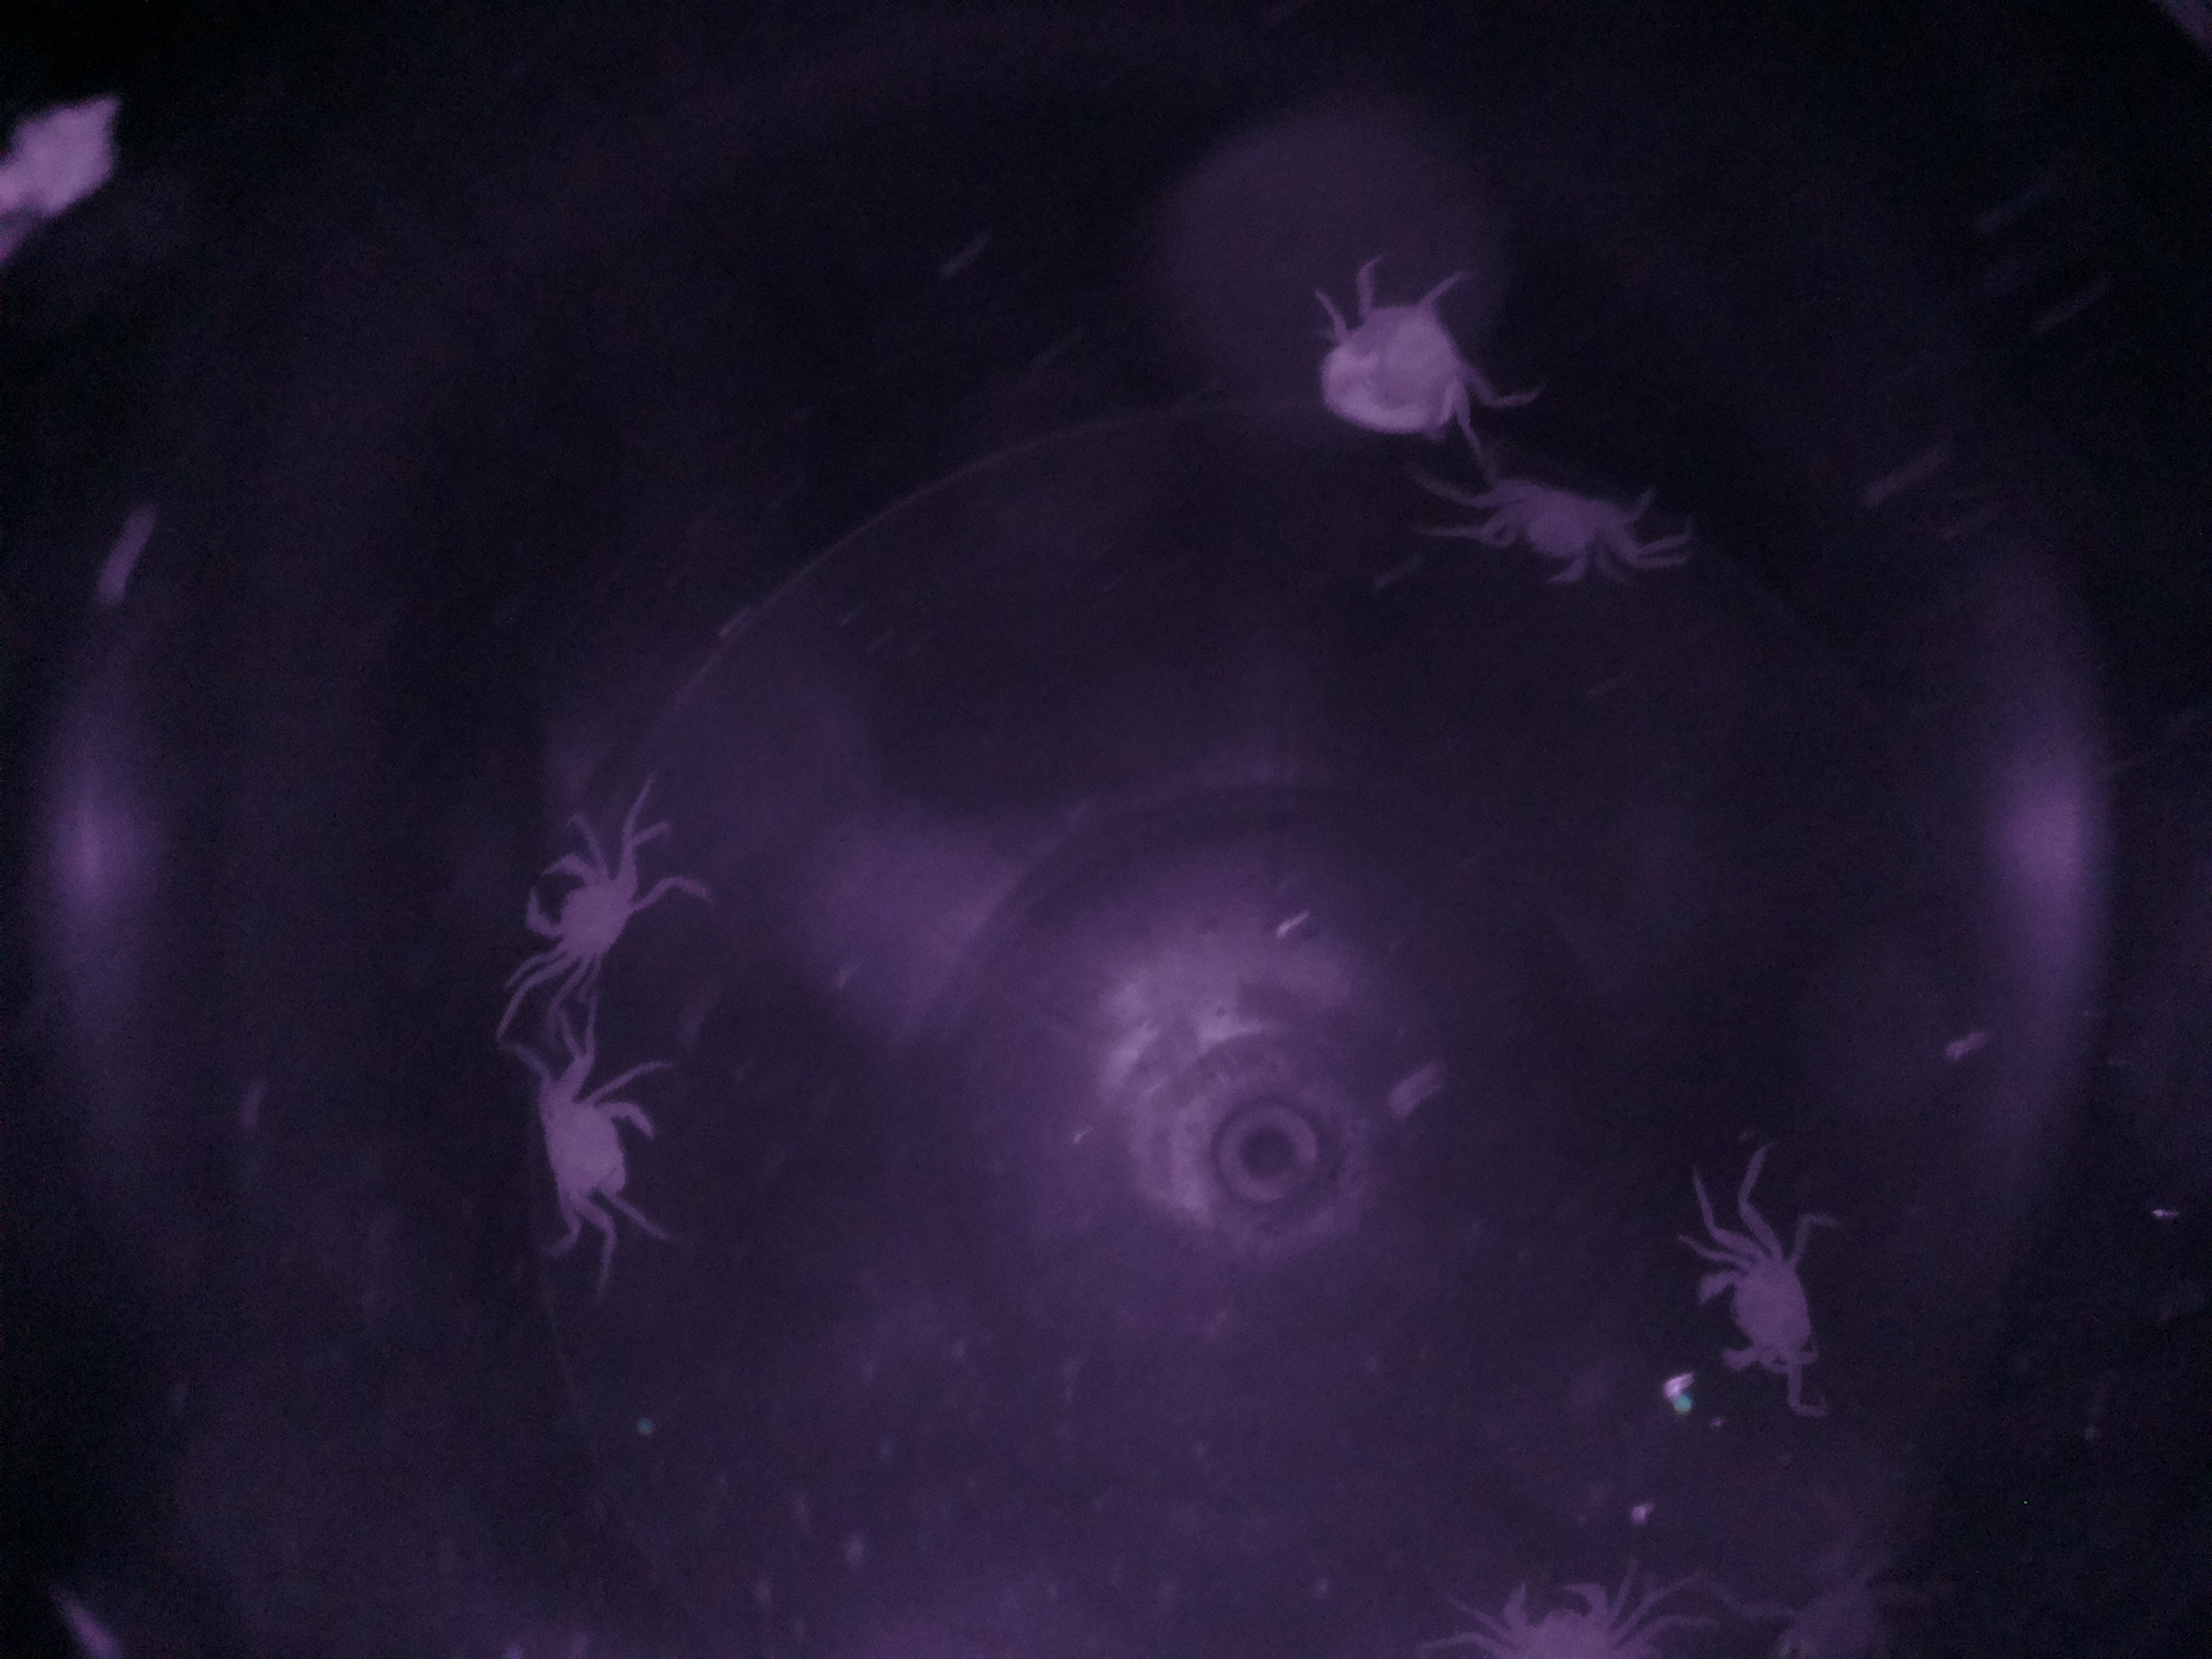Crab: (512, 1047, 683, 1248), (1670, 1208, 1838, 1403), (491, 821, 664, 988)
